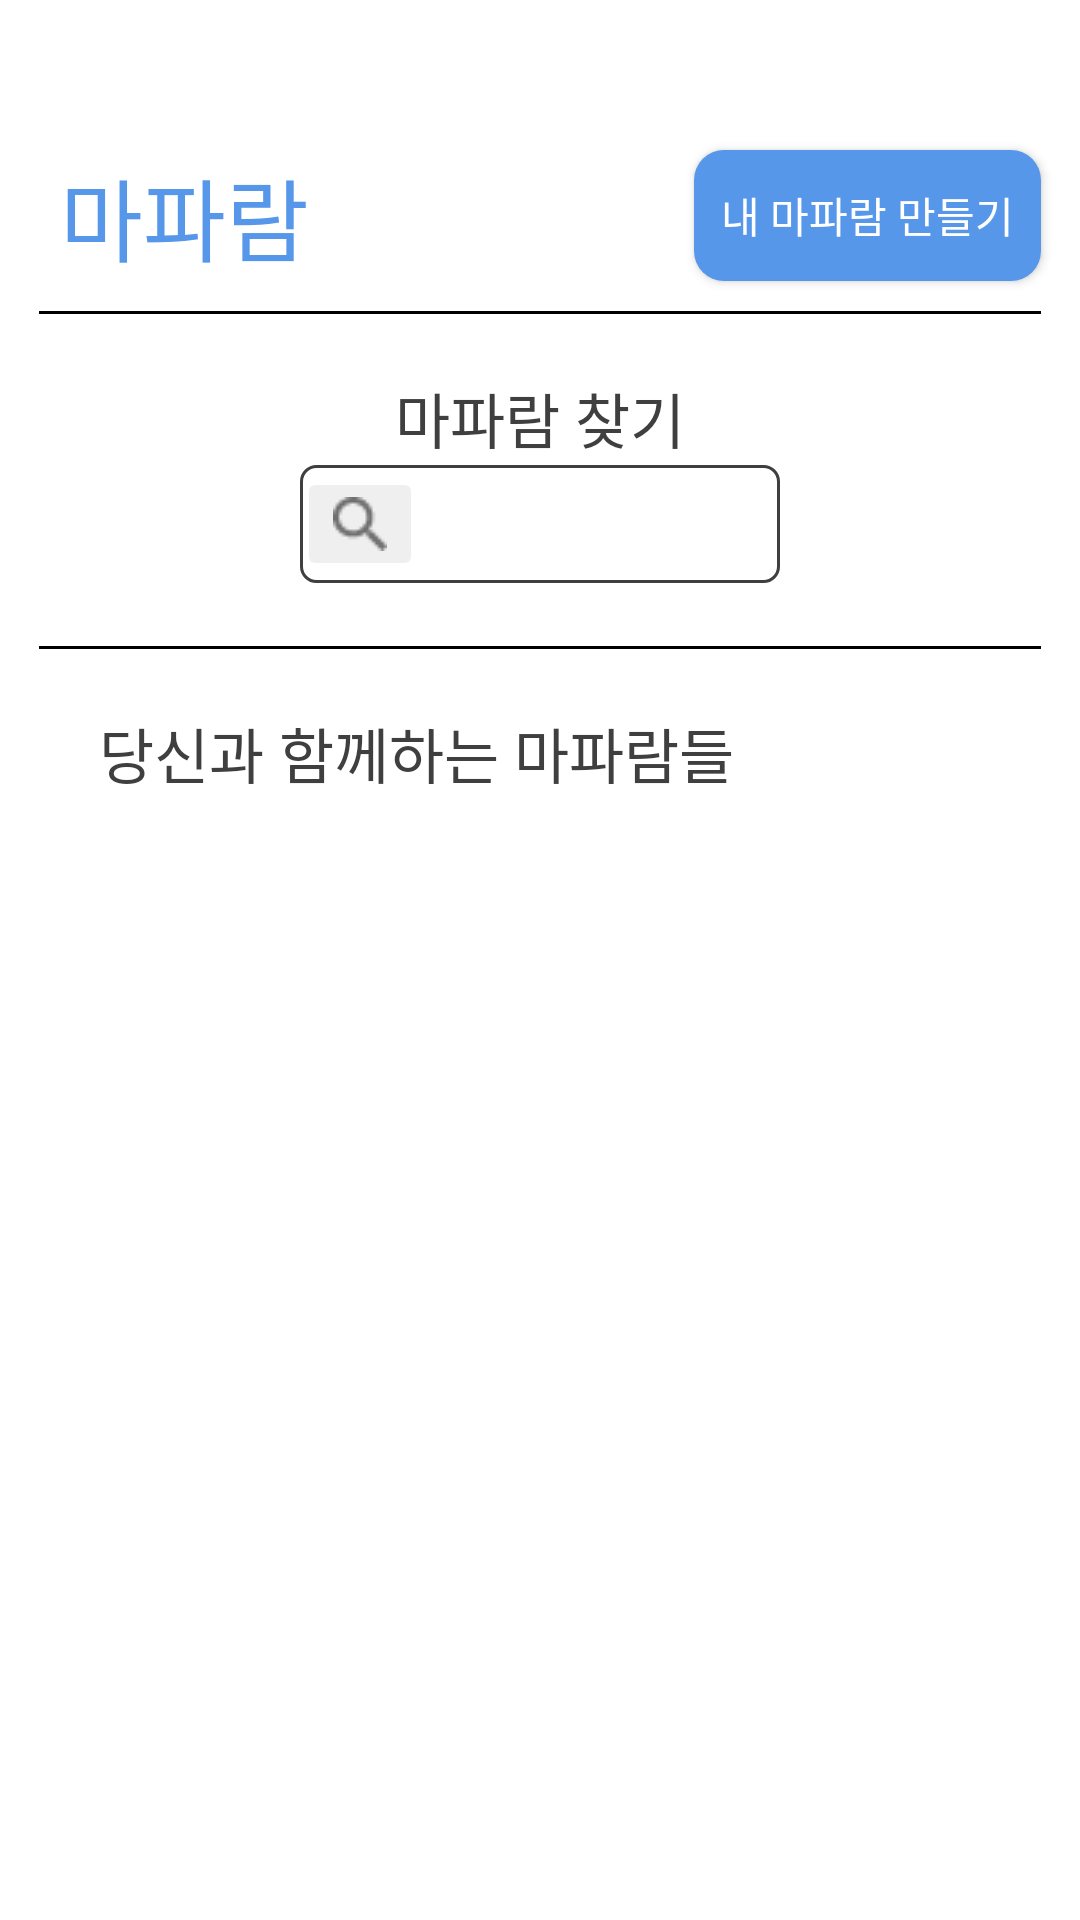

Point at icon controls on the screen. Image size 1080px×1920px, points as (x,y).
search: (360,524)
